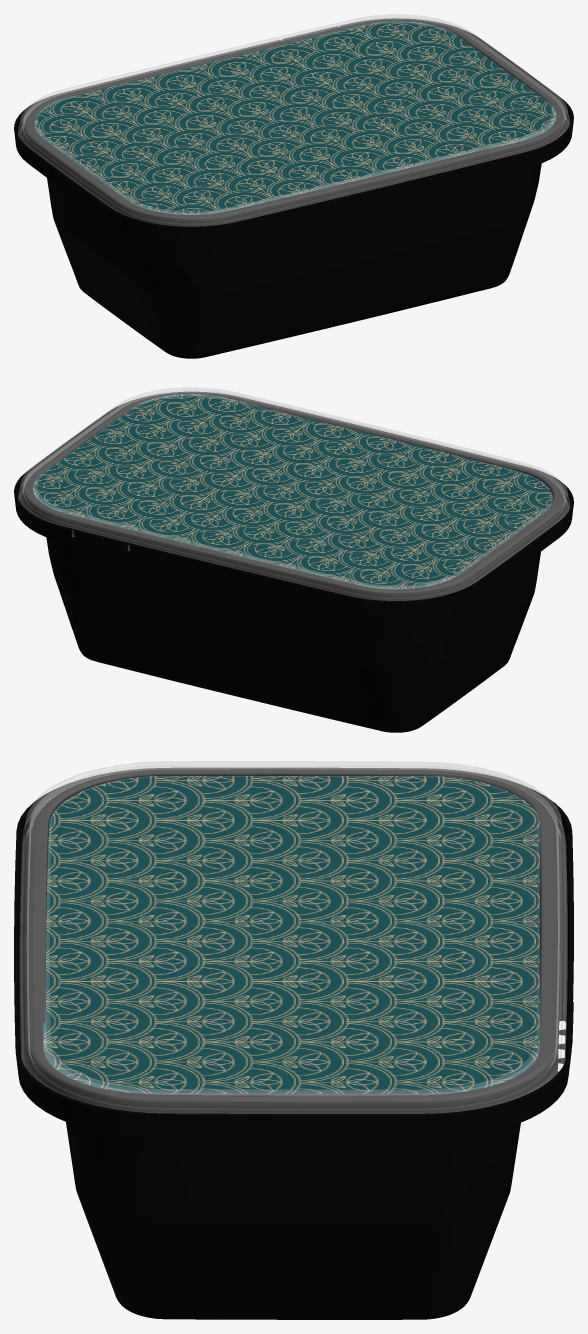
File: 1000ml rect .glb
3 views of the same model, one above another, from view 1: azimuth 30°, elevation 25°; view 2: azimuth 150°, elevation 25°; view 3: azimuth 270°, elevation 25° (orthographic). The views are drawn at different scales.
Visible parts, largest first — view 1: empty_5, Plane.003, empty_3; view 2: empty_5, Plane.003, empty_3; view 3: Plane.003, empty_5, empty_3.
Boxes of the visible parts, bbox=[...] form: empty_5: bbox=[14, 18, 573, 358]; Plane.003: bbox=[34, 21, 556, 214]; empty_3: bbox=[18, 14, 569, 226]; empty_5: bbox=[14, 392, 573, 732]; Plane.003: bbox=[32, 393, 552, 589]; empty_3: bbox=[18, 387, 569, 600]; Plane.003: bbox=[43, 776, 539, 1093]; empty_5: bbox=[14, 768, 573, 1319]; empty_3: bbox=[20, 761, 567, 1113].
Bounding box in the file's own units: 0.191 × 0.068 × 0.1302.
Materials: 7 (3 with a texture image).
